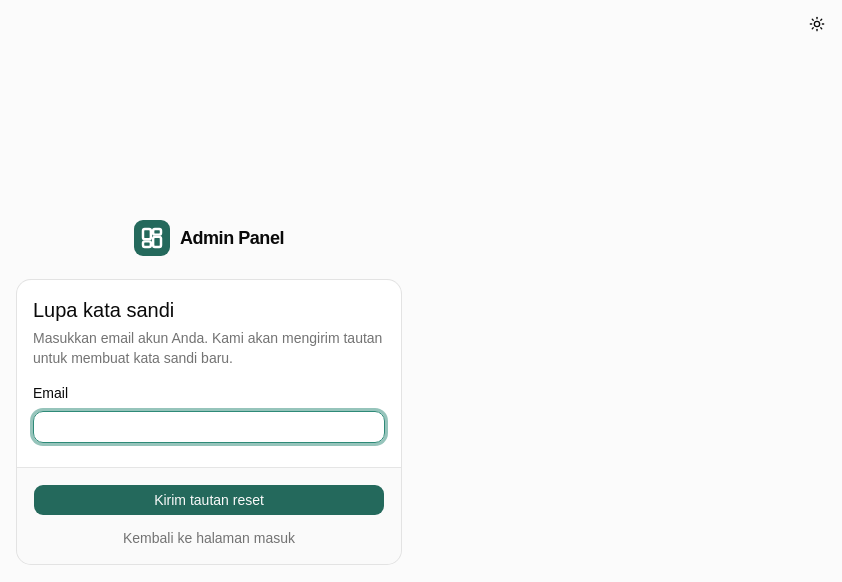
Test: public auth pages › requests a reset link and shows the generic answer
Type "budi@example.com" into the field labelled "Email".
click(209, 427); type("budi@example.com")  # box [33, 411, 385, 443]
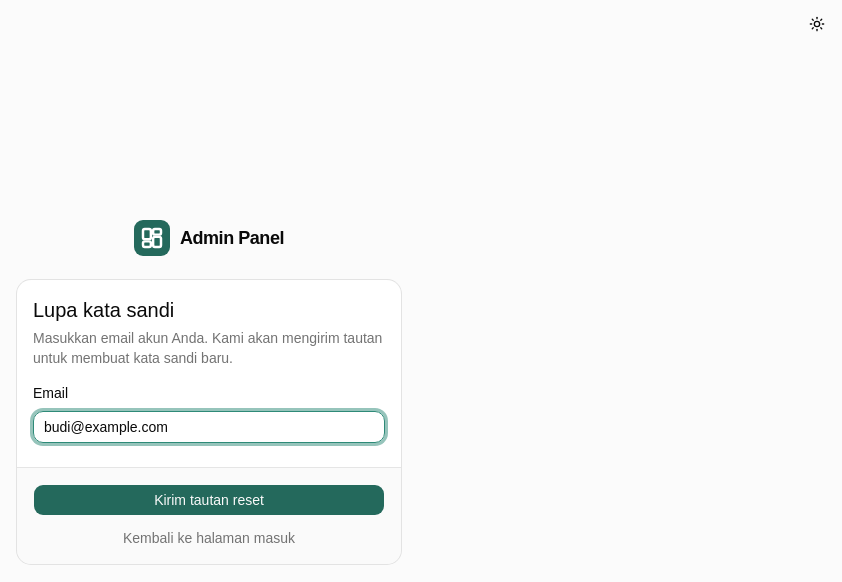
Click the button "Kirim tautan reset".
click(209, 500)  # box [33, 484, 385, 516]
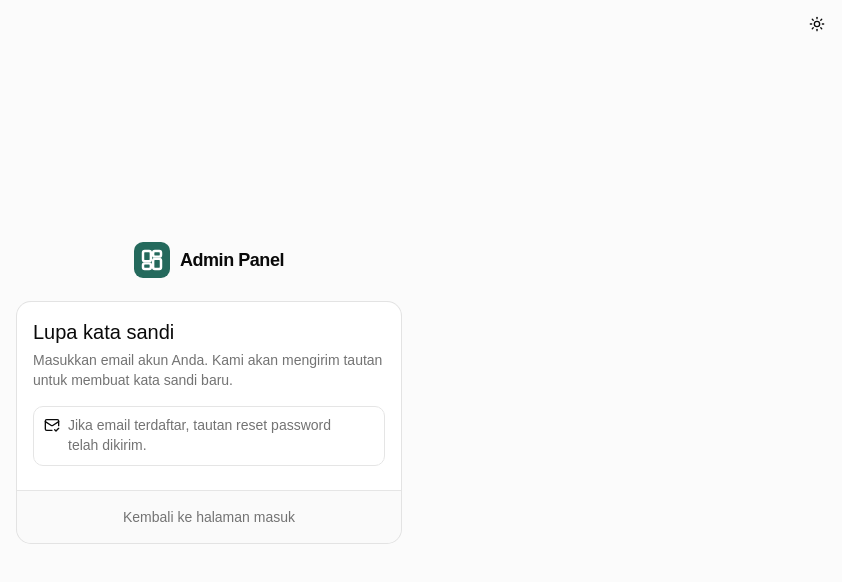
Expected: the text "Jika email terdaftar, tautan reset password telah dikirim." is shown, [68, 414, 374, 454]
